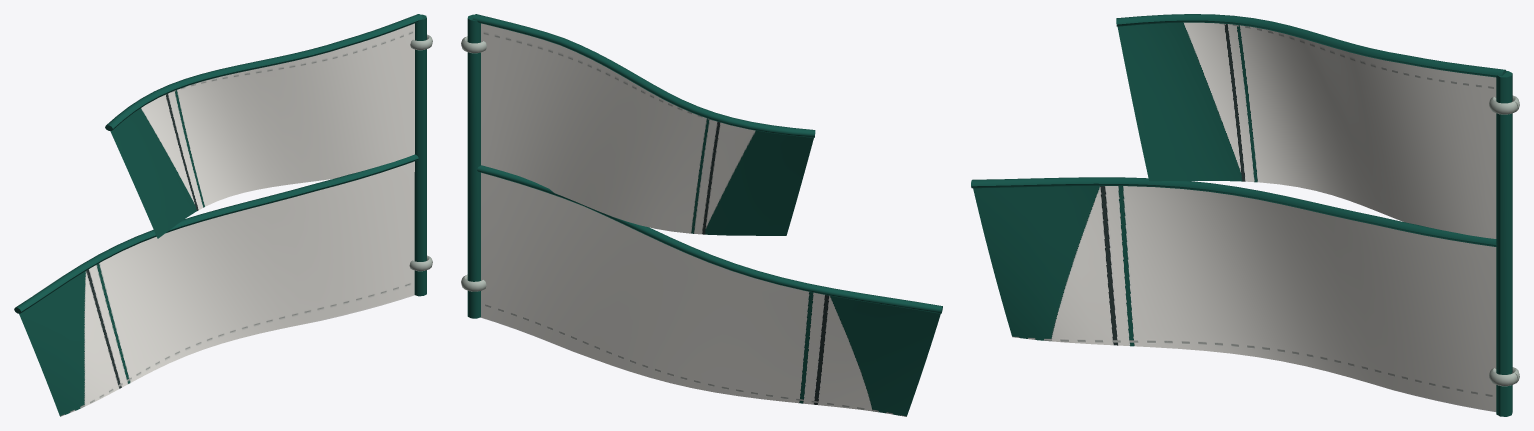
The model's file is Pennant_20_SR_青磁・黒稜.glb.
The picture shows the model from 3 angles, left to right: view 1: azimuth 30°, elevation 25°; view 2: azimuth 150°, elevation 25°; view 3: azimuth 330°, elevation 25°; orthographic projection. The views are drawn at different scales.
Parts seen in each view (by area): view 1: Pennant_20_SR; view 2: Pennant_20_SR; view 3: Pennant_20_SR.
Boxes of the visible parts, x1,y1,x2,y2 form: Pennant_20_SR: [14, 14, 432, 416]; Pennant_20_SR: [461, 14, 942, 416]; Pennant_20_SR: [971, 14, 1519, 416].
Bounding box in the file's own units: 0.2934 × 0.1923 × 0.0433.
Materials: 3 (3 with a texture image).
